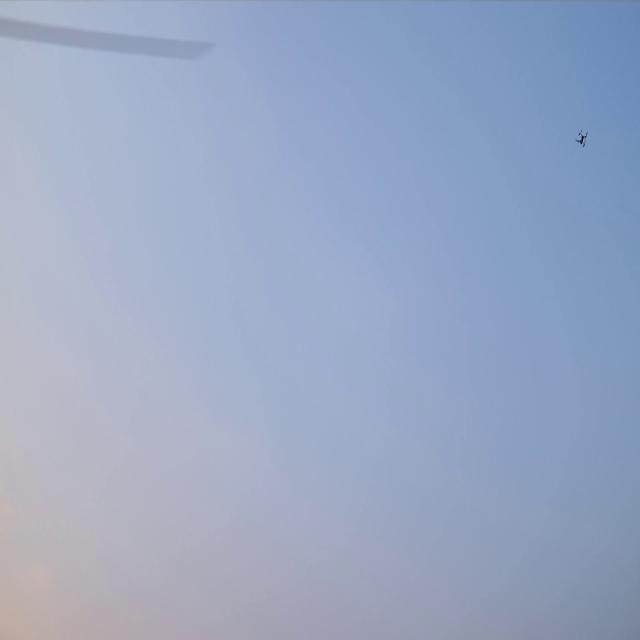UAV: (574, 129, 588, 148)
